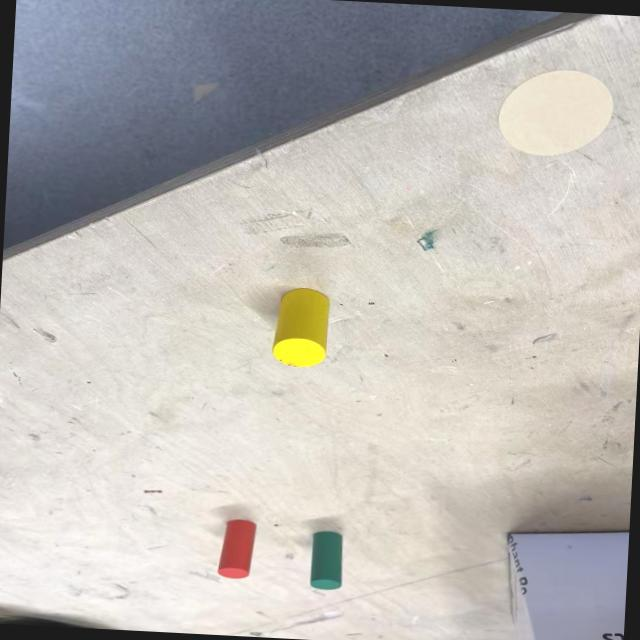yellow_cylinder: (271, 286, 331, 370)
